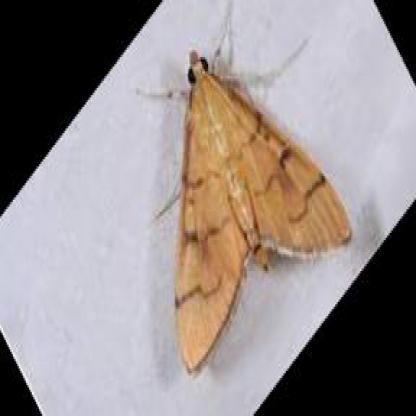Leaf Webber: (137, 37, 349, 374)
